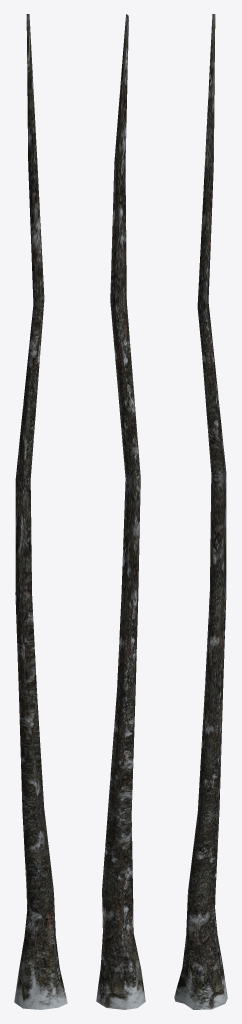
3 renders of one model, left to right at view 1: azimuth 90°, elevation 25°; view 2: azimuth 210°, elevation 25°; view 3: azimuth 270°, elevation 25°, orthographic.
Visible parts, largest first — view 1: 1_zw_02_01; view 2: 1_zw_02_01; view 3: 1_zw_02_01.
Boxes of the visible parts, box(x1,y1,x2,y2) form: 1_zw_02_01: box(14, 14, 67, 1009); 1_zw_02_01: box(96, 14, 145, 1009); 1_zw_02_01: box(174, 14, 227, 1009).
Bounding box in the file's own units: 0.3079 × 7.33 × 0.3611.
1 material, 1 textured.
